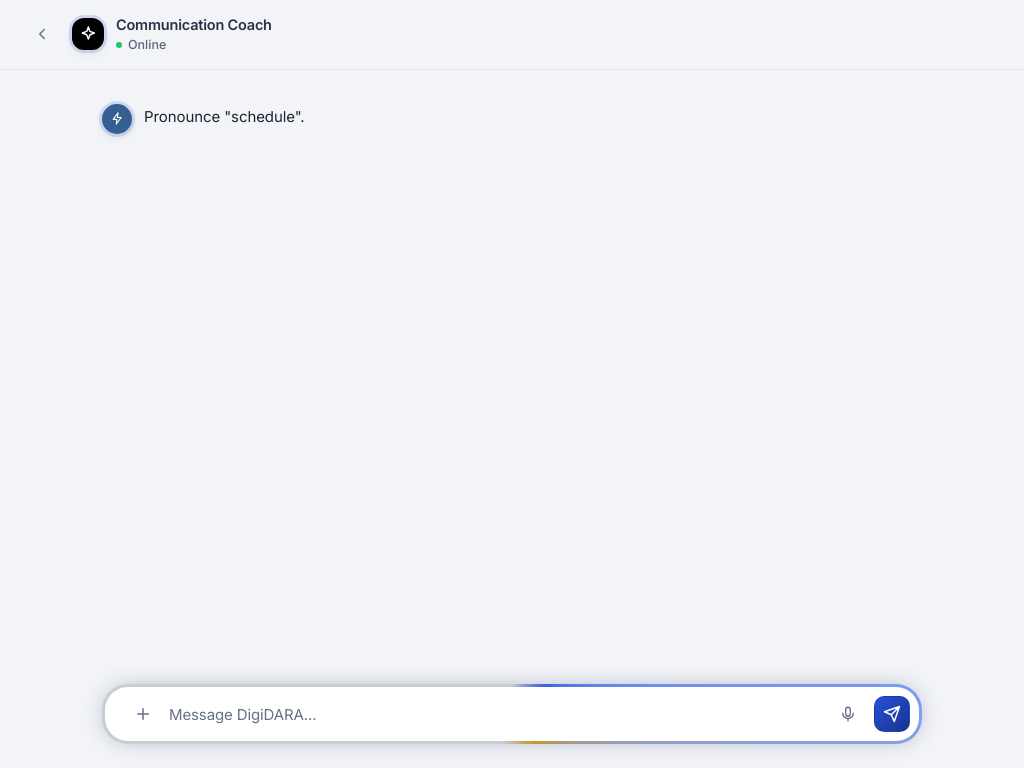
Test: desktop keeps the old behaviour: the text waits in the box for Send
Click the button titled "Voice input": (848, 714) [830,696,866,732]
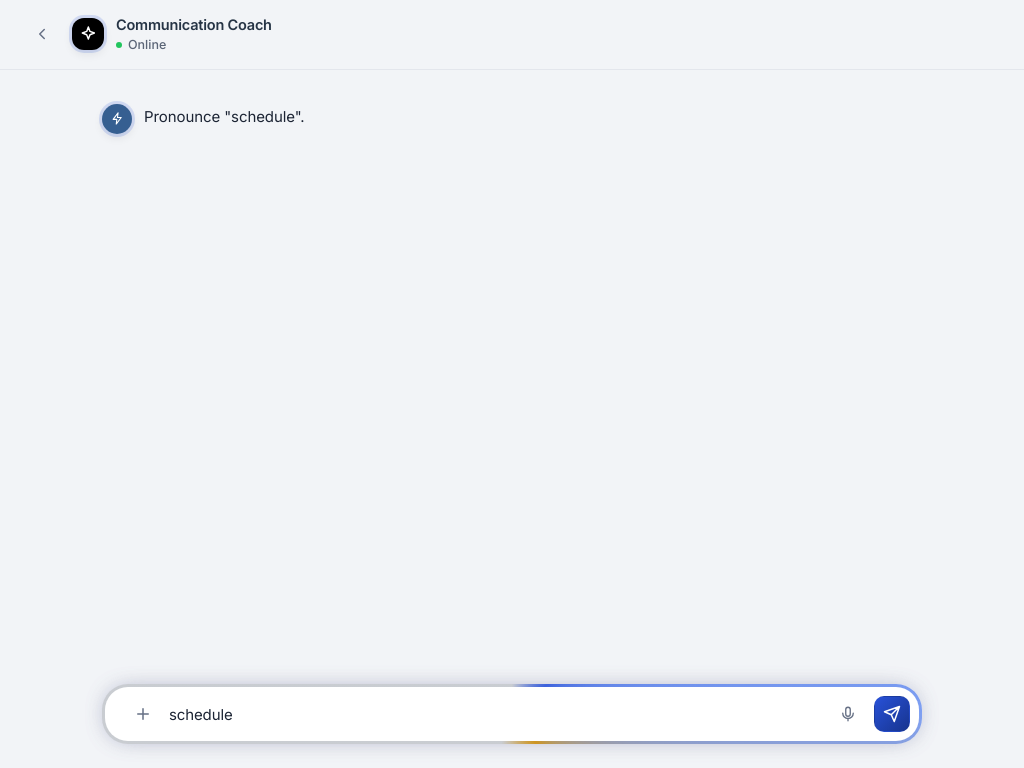
expect the text box showing "schedule" is shown: met, box [169,697,822,732]
